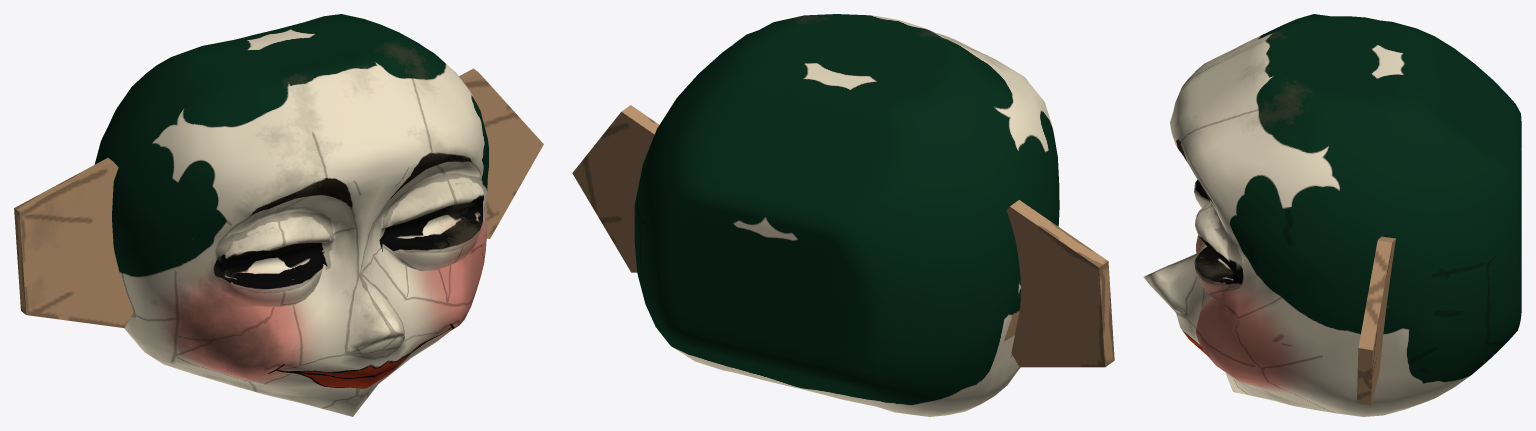
The model's file is stage_1.fbx.
The picture shows the model from 3 angles, left to right: view 1: azimuth 30°, elevation 25°; view 2: azimuth 150°, elevation 25°; view 3: azimuth 270°, elevation 25°; orthographic projection. The views are drawn at different scales.
Visible parts, largest first — view 1: stage_1, Ear, Ear1; view 2: stage_1, Ear, Ear1; view 3: stage_1, Ear1.
Part boxes in pixels (box(x1,y1,x2,y2)): stage_1: box(94, 14, 488, 416); Ear: box(14, 158, 132, 327); Ear1: box(459, 68, 543, 238); stage_1: box(634, 14, 1059, 416); Ear: box(1006, 200, 1114, 367); Ear1: box(572, 105, 659, 272); stage_1: box(1143, 14, 1521, 416); Ear1: box(1356, 236, 1395, 405).
Size of the model in its own units: 65.91 by 41.06 by 41.34.
